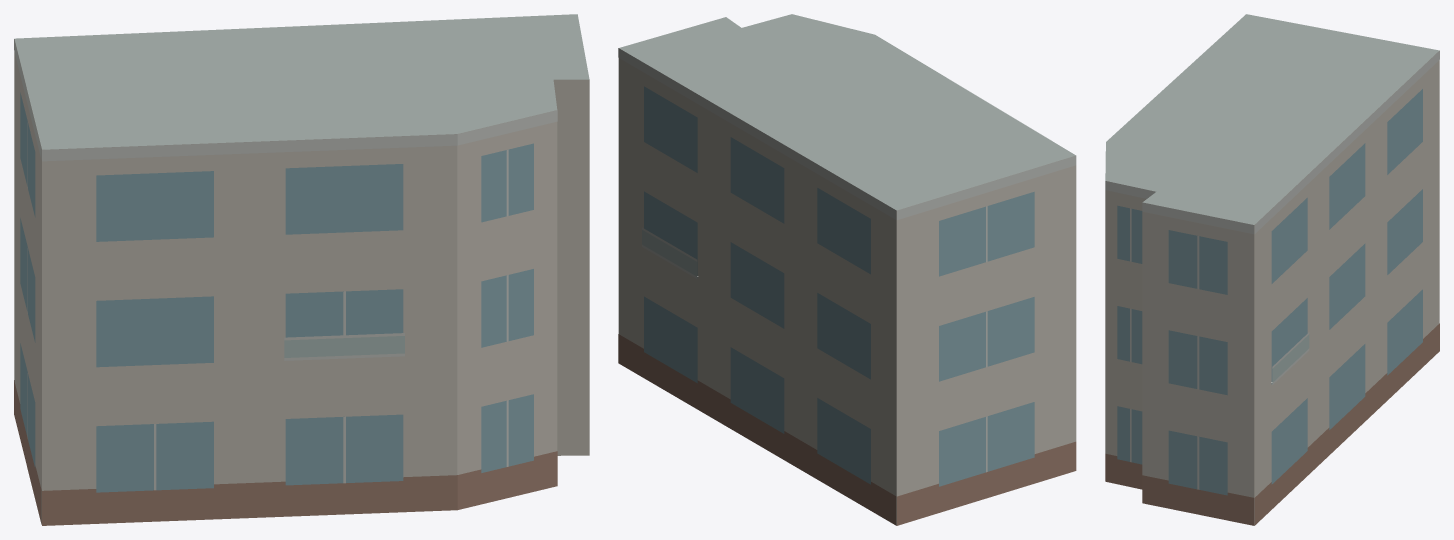
Rendered from survey-upis-32471237.glb.
3 renders of one model, left to right at view 1: azimuth 30°, elevation 25°; view 2: azimuth 150°, elevation 25°; view 3: azimuth 270°, elevation 25°, orthographic. The views are drawn at different scales.
Visible parts, largest first — view 1: survey-upis-32471237.tmp; view 2: survey-upis-32471237.tmp; view 3: survey-upis-32471237.tmp.
Part boxes in pixels (<box>): survey-upis-32471237.tmp: <box>14,14,589,525</box>; survey-upis-32471237.tmp: <box>618,14,1076,525</box>; survey-upis-32471237.tmp: <box>1105,14,1439,525</box>.
Size of the model in its own units: 11.9 by 7.9 by 7.97.
